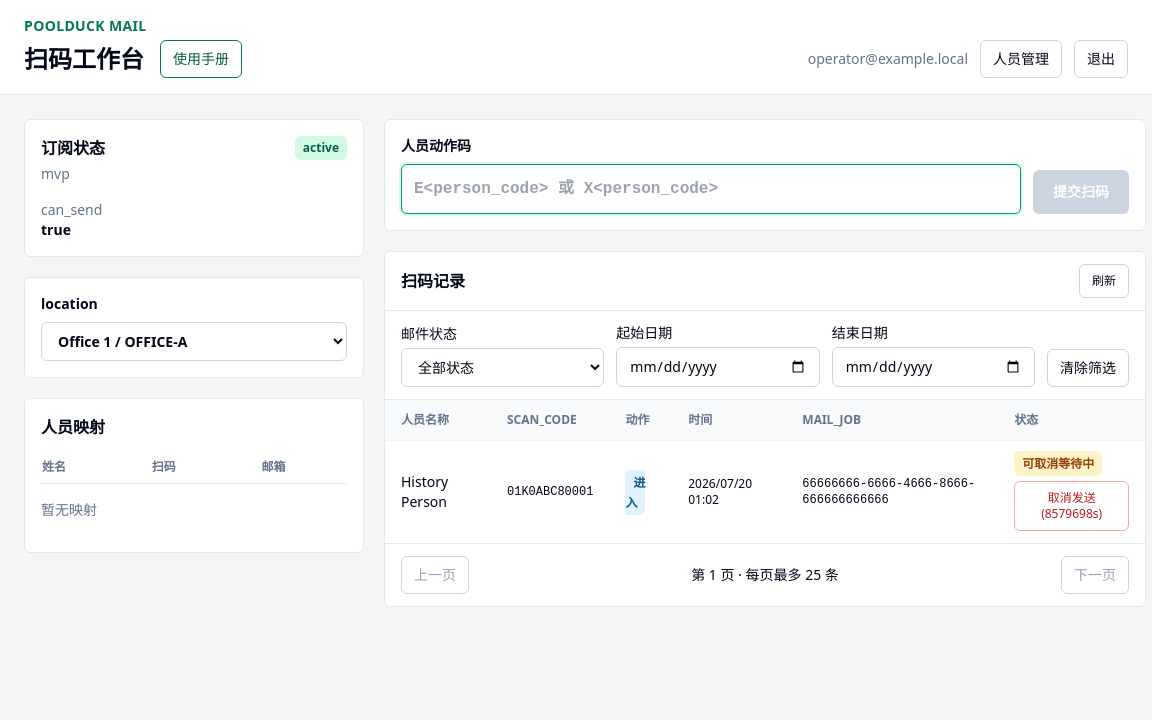
Test: history workspace › keeps cancellation available on a filtered page and reloads that filter after canceling
The image size is (1152, 720).
Expected: the button with test id "scan-cancel" is shown, [1014,481,1129,531]
Select "可取消等待中（waiting）" in the dropdown with test id "history-status-filter": point(503, 368) [401,348,604,387]
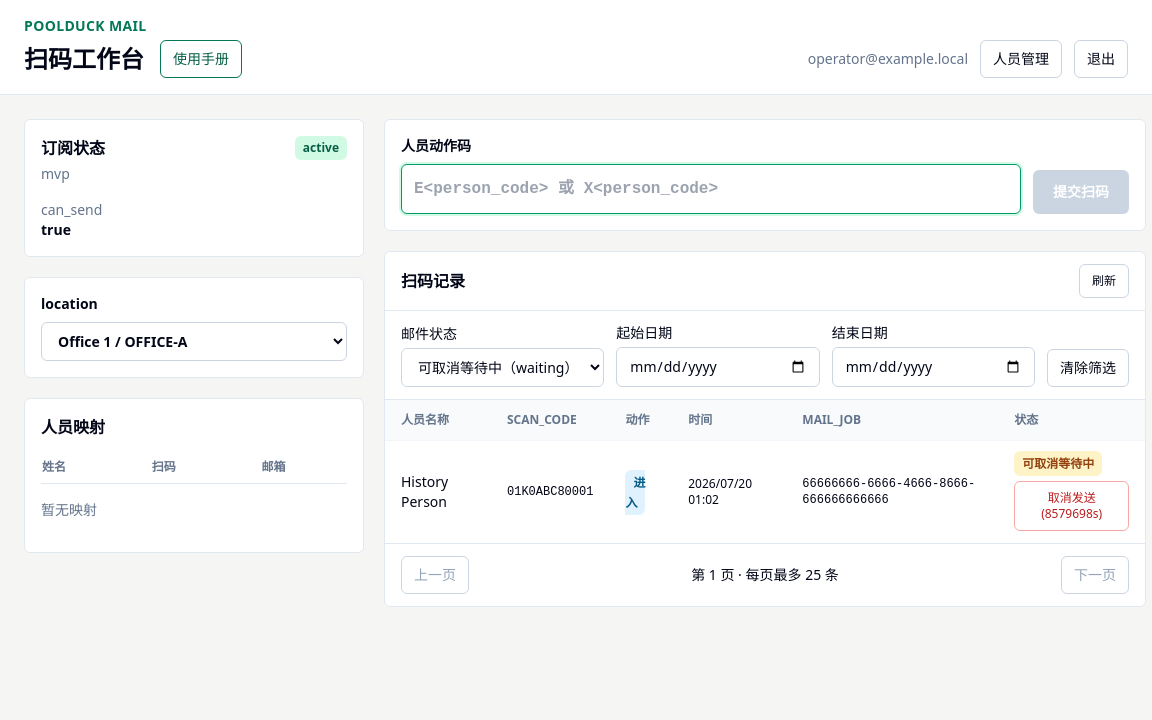
Click the button with test id "scan-cancel": point(1072, 506) [1014,481,1129,531]
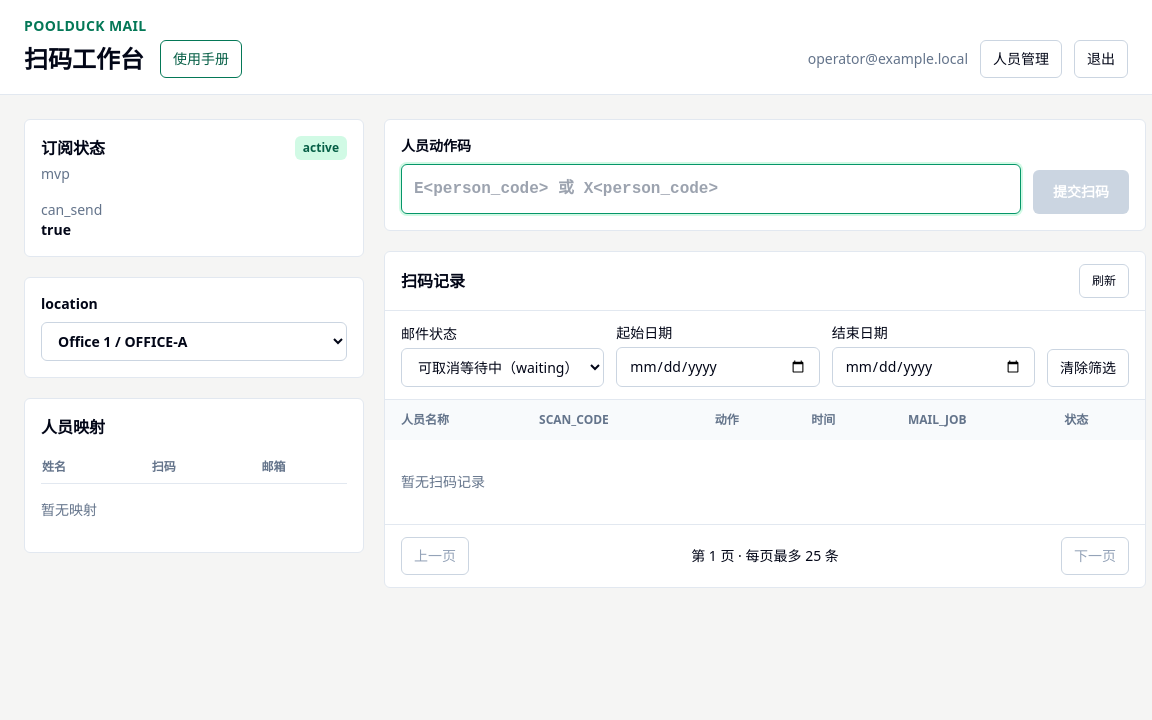
Expected: the text "暂无扫码记录" is shown, [401,472,485,491]
Expected: the button with test id "scan-cancel" is gone
